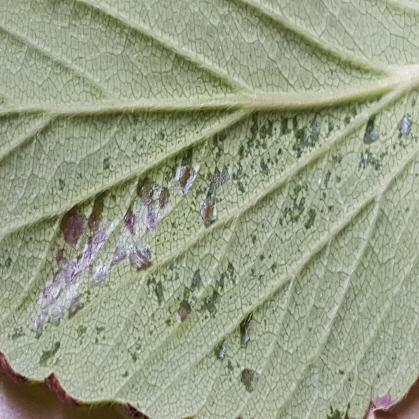Angular Leafspot: (0, 81, 418, 418)
